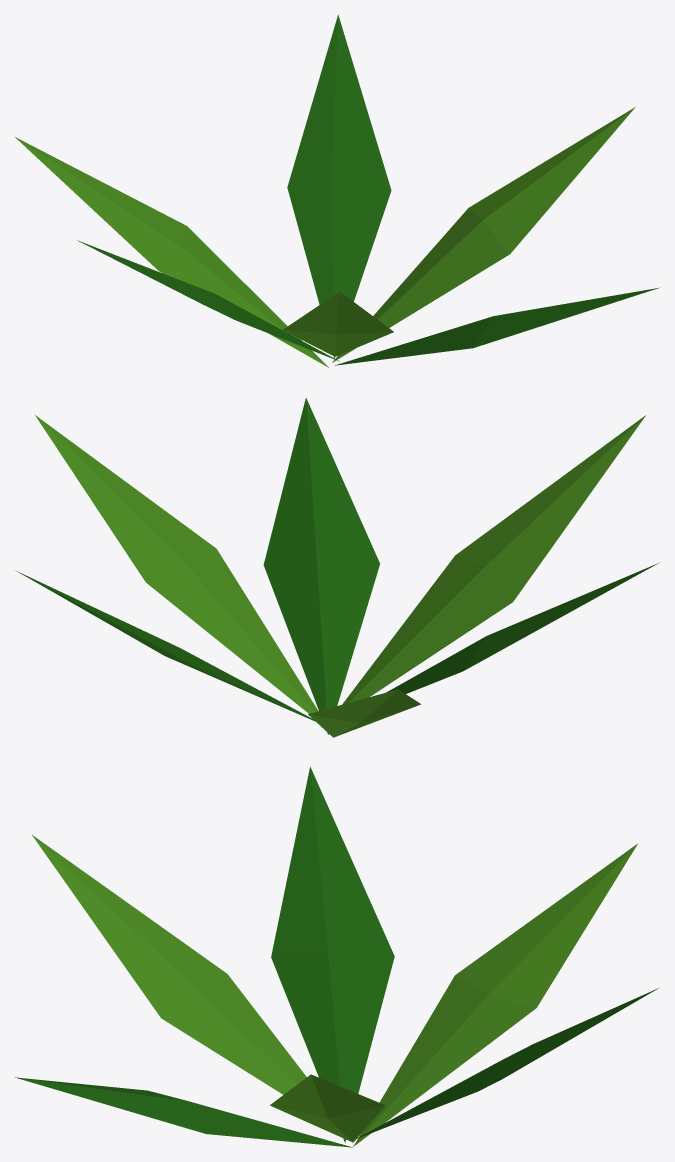
File: world_fern_a.fbx
3 views of the same model, one above another, from view 1: azimuth 30°, elevation 25°; view 2: azimuth 150°, elevation 25°; view 3: azimuth 270°, elevation 25° (orthographic). The views are drawn at different scales.
Parts seen in each view (by area): view 1: world_fern_a; view 2: world_fern_a; view 3: world_fern_a.
Boxes of the visible parts, x1,y1,x2,y2 form: world_fern_a: (15, 15, 659, 367); world_fern_a: (15, 398, 660, 737); world_fern_a: (15, 766, 658, 1147).
Bounding box in the file's own units: 326 × 120 × 294.
